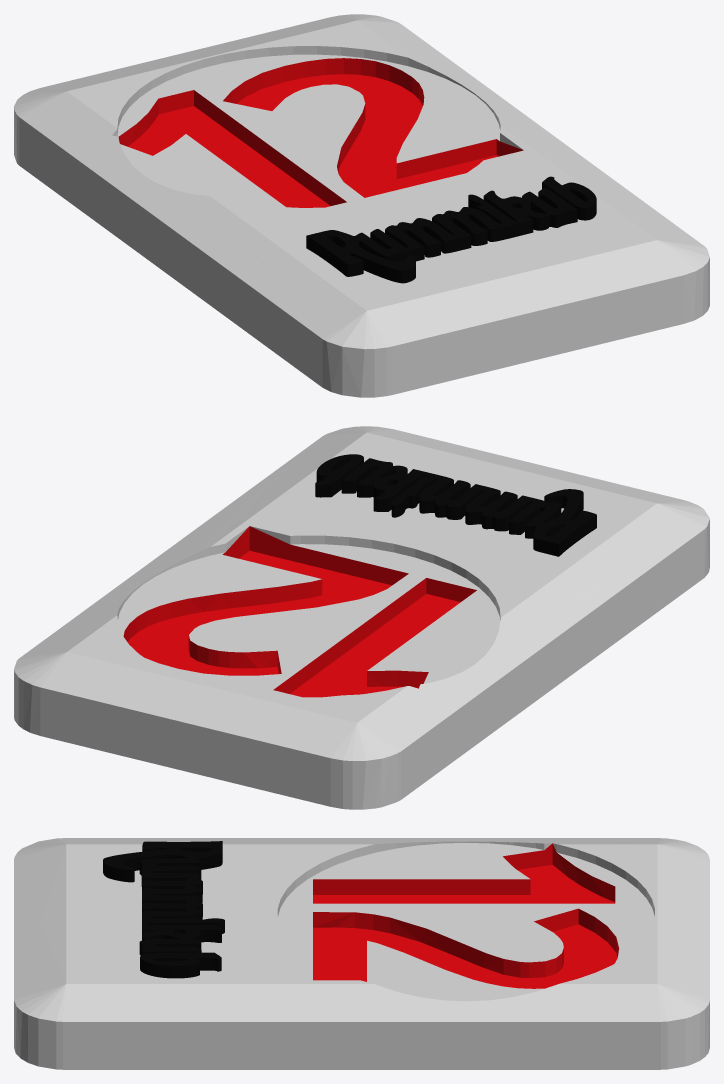
3 renders of one model, top to bottom at view 1: azimuth 30°, elevation 25°; view 2: azimuth 150°, elevation 25°; view 3: azimuth 270°, elevation 25°, orthographic.
Visible parts, largest first — view 1: Rummikub 12 Fixed, Rummikub 1 Fixed.001; view 2: Rummikub 12 Fixed, Rummikub 1 Fixed.001; view 3: Rummikub 12 Fixed, Rummikub 1 Fixed.001.
Boxes of the visible parts, box(x1,y1,x2,y2) form: Rummikub 12 Fixed: box(14, 14, 709, 397); Rummikub 1 Fixed.001: box(306, 176, 596, 283); Rummikub 12 Fixed: box(14, 426, 709, 809); Rummikub 1 Fixed.001: box(315, 454, 596, 556); Rummikub 12 Fixed: box(14, 838, 709, 1069); Rummikub 1 Fixed.001: box(103, 841, 224, 978).
Size of the model in its own units: 2499 by 483 by 4000.
